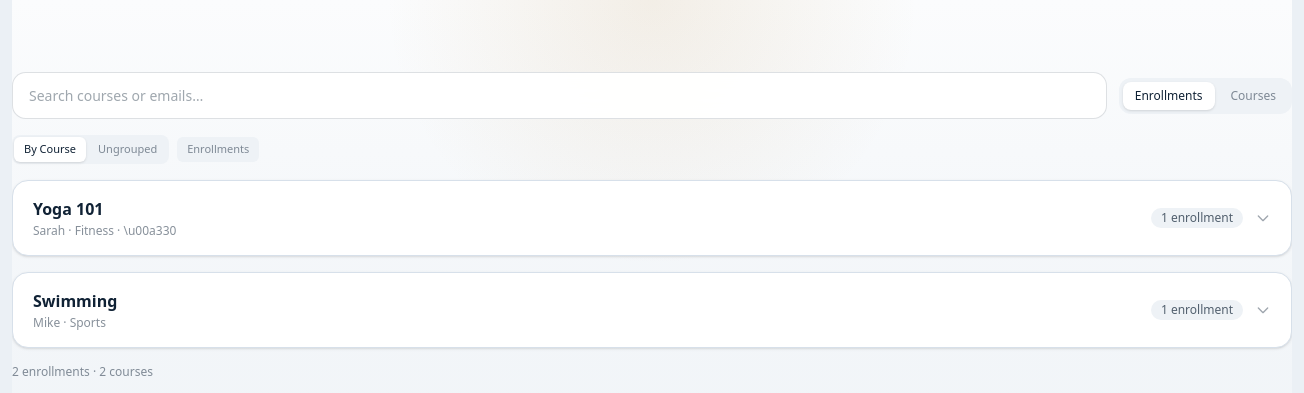
Test: CoursesTab › filters enrollments by search
The image size is (1304, 393).
Type "student" into the field with placeholder "Search courses or emails…". click: point(559, 96)
box: [12, 72, 1107, 119]
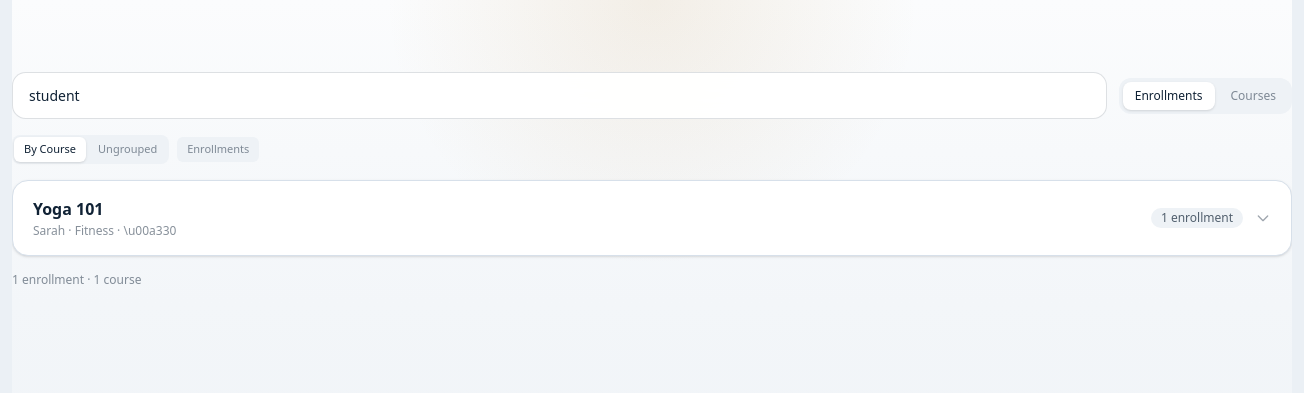
Expected: the text "Yoga 101" is shown, [33, 198, 104, 220]
Now the button "Swimming" is gone
